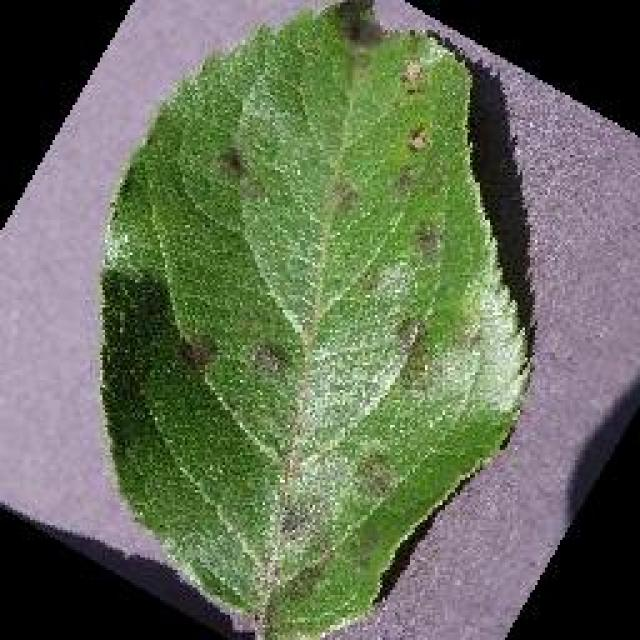apple scab disease: (95, 0, 535, 638)
